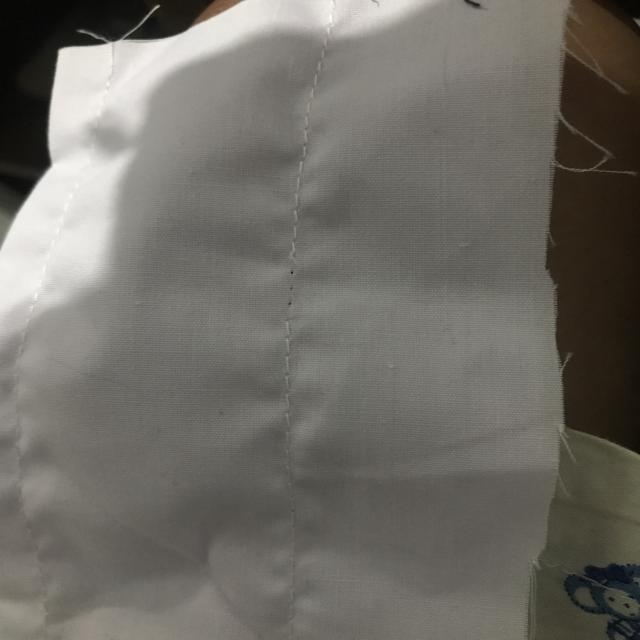broken: (263, 236, 322, 333)
good: (269, 147, 320, 211)
